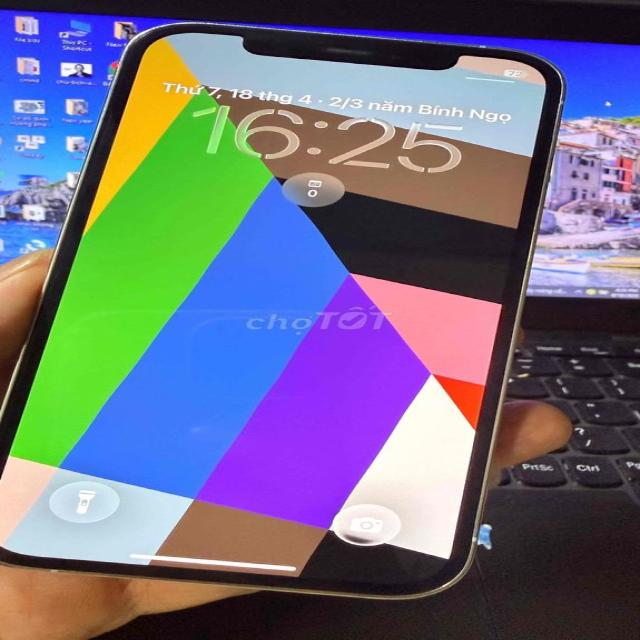gen_12_13: (0, 8, 572, 611)
